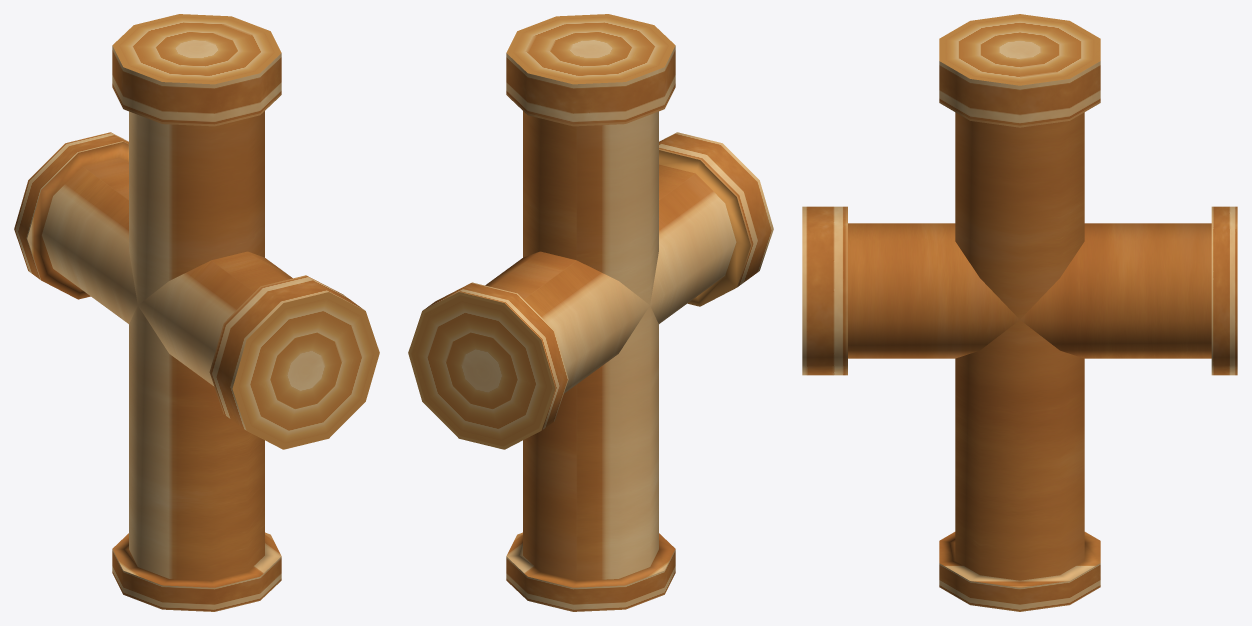
The model's file is xPipe.fbx.
3 renders of one model, left to right at view 1: azimuth 30°, elevation 25°; view 2: azimuth 150°, elevation 25°; view 3: azimuth 270°, elevation 25°, orthographic.
Parts seen in each view (by area): view 1: xPipe2; view 2: xPipe2; view 3: xPipe2.
Part boxes in pixels (bbox=[...]): xPipe2: bbox=[14, 14, 379, 611]; xPipe2: bbox=[408, 14, 773, 611]; xPipe2: bbox=[802, 14, 1237, 611].
Size of the model in its own units: 117 by 400 by 300.
